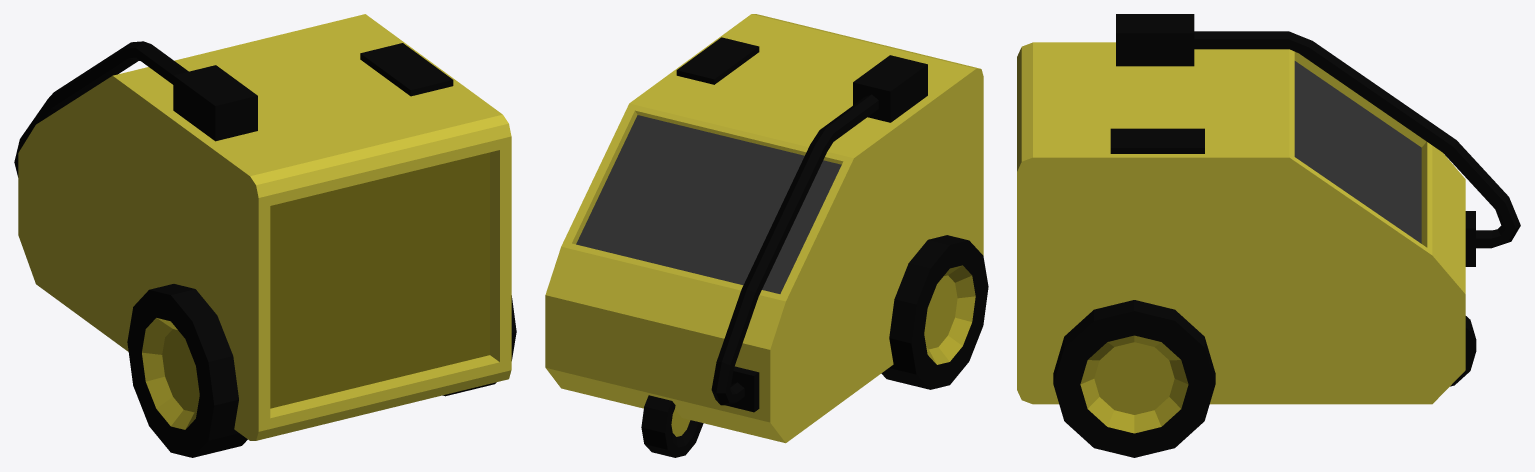
Rendered from KarcherLowPoly.fbx.
The picture shows the model from 3 angles, left to right: view 1: azimuth 30°, elevation 25°; view 2: azimuth 150°, elevation 25°; view 3: azimuth 270°, elevation 25°; orthographic projection. The views are drawn at different scales.
Visible parts, largest first — view 1: Cube, Cylinder.001, Cube.002, Cylinder.003, Cube.003; view 2: Cube, Cylinder.001, Cylinder.003, Cube.002, Cylinder.002, Cube.003, Cube.001; view 3: Cube, Cylinder, Cylinder.003, Cube.002, Cube.003, Cube.001, Cylinder.002.
Boxes of the visible parts, left/top/right/bottom form: Cube: left=18, top=14, right=511, bottom=440; Cylinder.001: left=127, top=284, right=247, bottom=457; Cube.002: left=173, top=65, right=257, bottom=141; Cylinder.003: left=14, top=41, right=188, bottom=177; Cube.003: left=360, top=43, right=453, bottom=96; Cube: left=545, top=14, right=983, bottom=443; Cylinder.001: left=881, top=235, right=988, bottom=389; Cylinder.003: left=711, top=94, right=878, bottom=405; Cube.002: left=853, top=55, right=927, bottom=122; Cylinder.002: left=641, top=395, right=703, bottom=457; Cube.003: left=676, top=37, right=759, bottom=84; Cube.001: left=724, top=366, right=759, bottom=412; Cube: left=1017, top=42, right=1465, bottom=404; Cylinder: left=1053, top=300, right=1215, bottom=457; Cylinder.003: left=1194, top=31, right=1520, bottom=248; Cube.002: left=1116, top=14, right=1194, bottom=66; Cube.003: left=1110, top=128, right=1204, bottom=153; Cube.001: left=1465, top=211, right=1475, bottom=266; Cylinder.002: left=1450, top=316, right=1476, bottom=386.
Bounding box in the file's own units: 239 × 261 × 370.
Materials: 1 (1 with a texture image).
